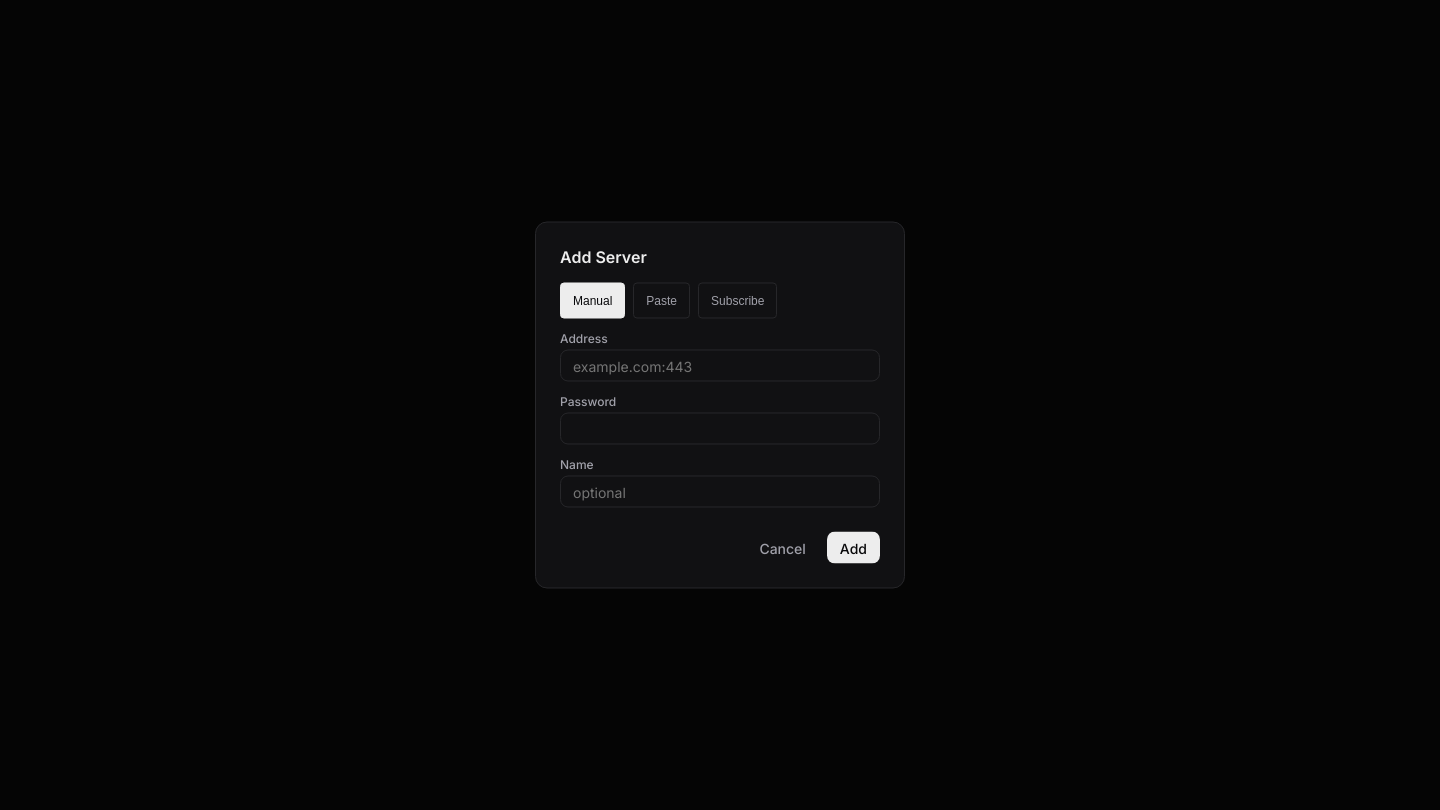
AddSheet › switches to paste tab on click
Click the tab "Paste" at (662,300), box [633,282,690,318]
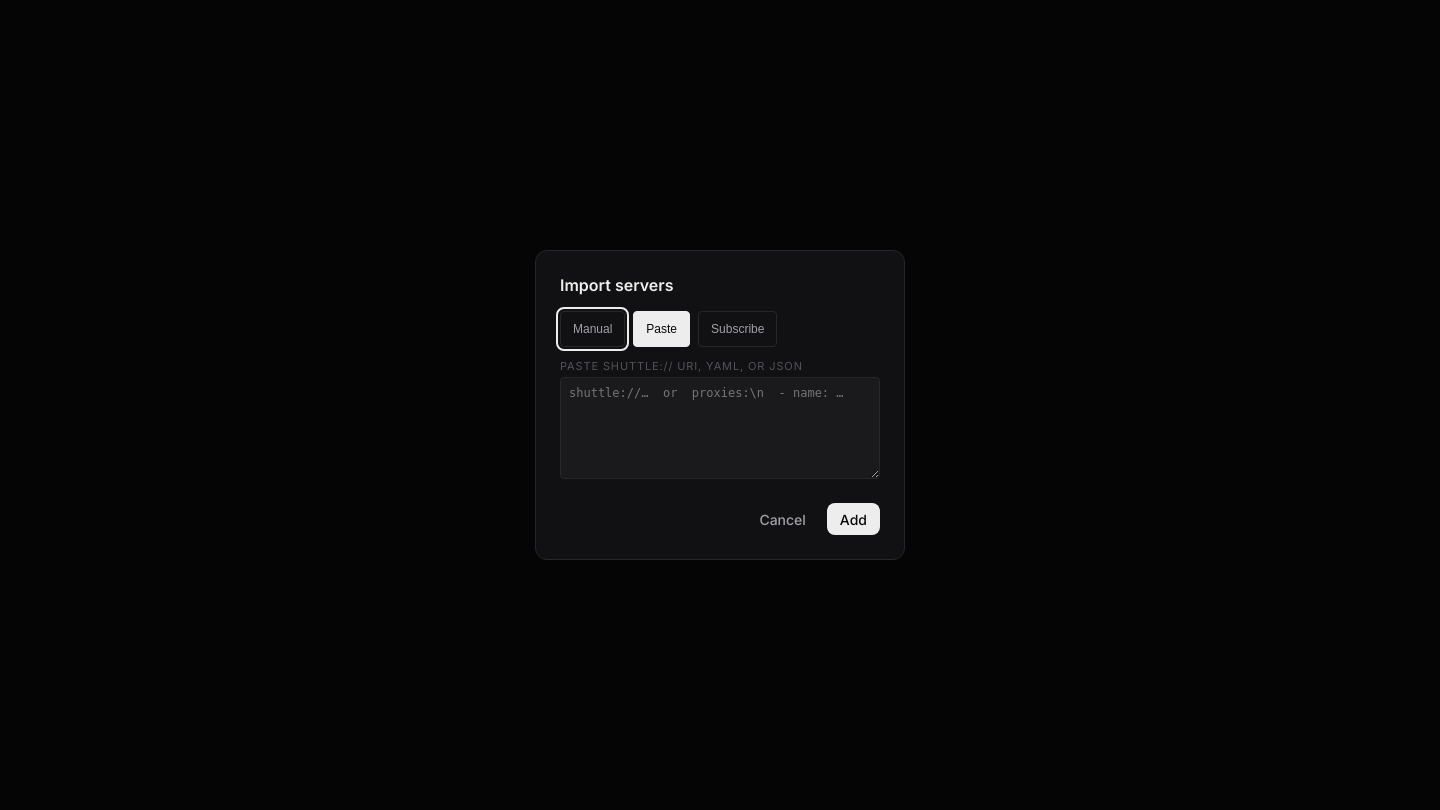
Now the text "Paste shuttle:// URI, YAML, or JSON" is shown, box [560,359,803,373]
